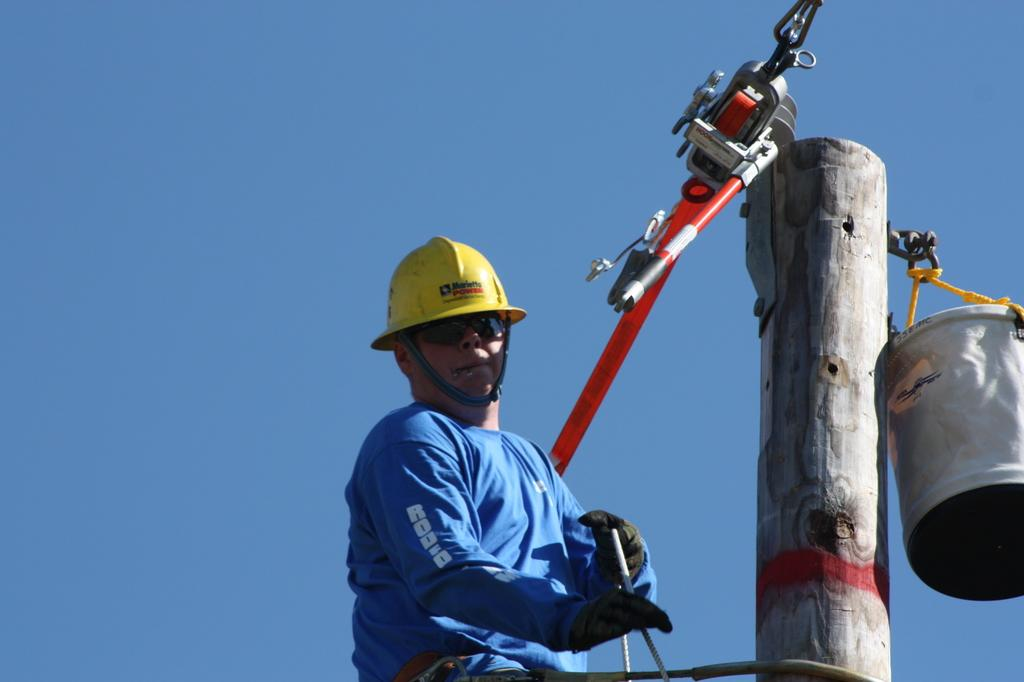helmet: (370, 235, 527, 398)
